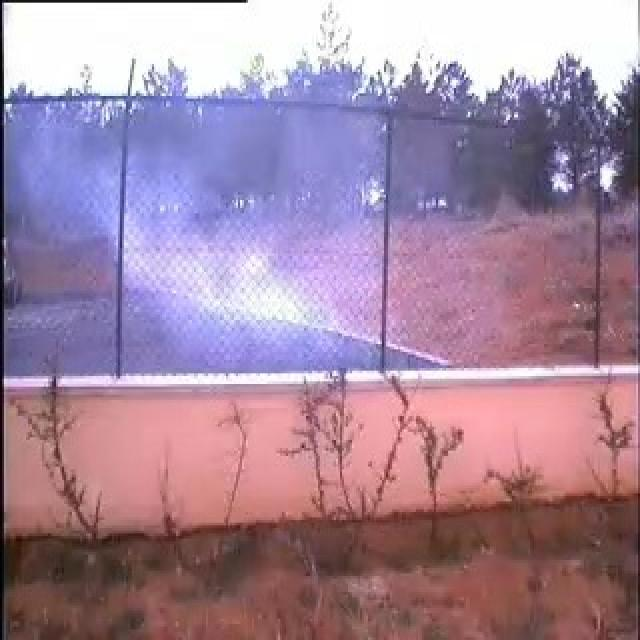smoke: (119, 118, 387, 370)
